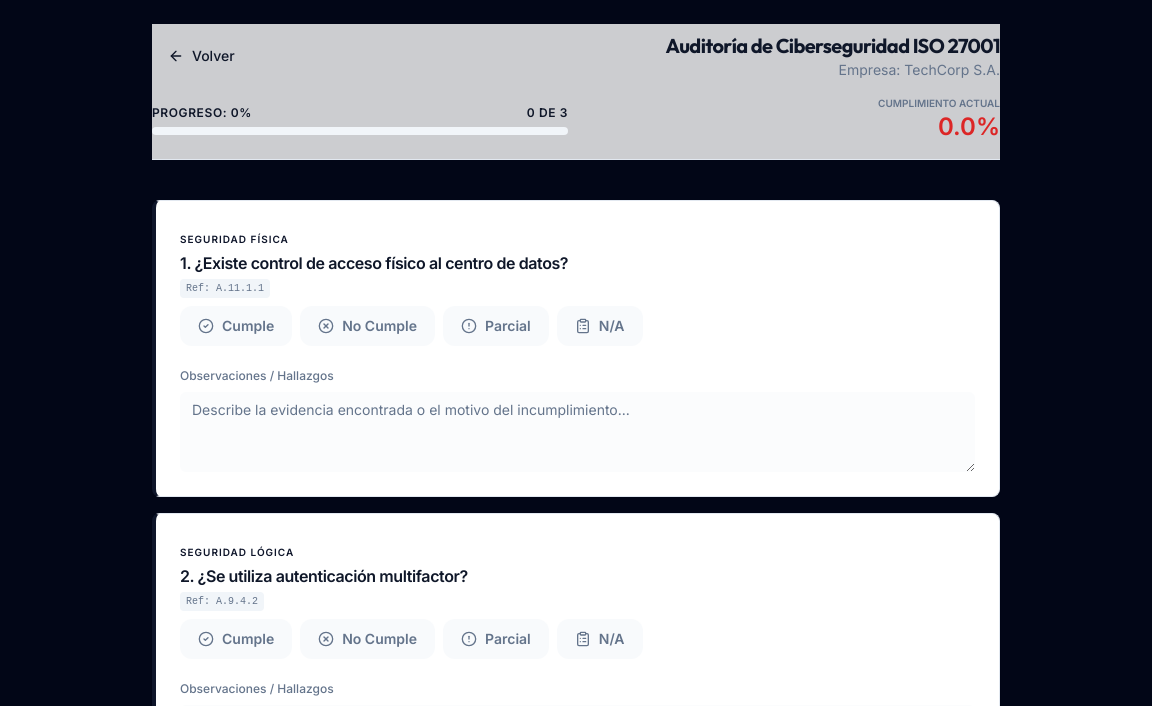
Test: AuditExecutionPage › New audit flow › should update score with partial responses on different items
What coordinates should you click on to do the following:
click the button "Cumple" below "A.11.1.1"
I would click on:
 (236, 326)
Its box is [180,306,292,346].
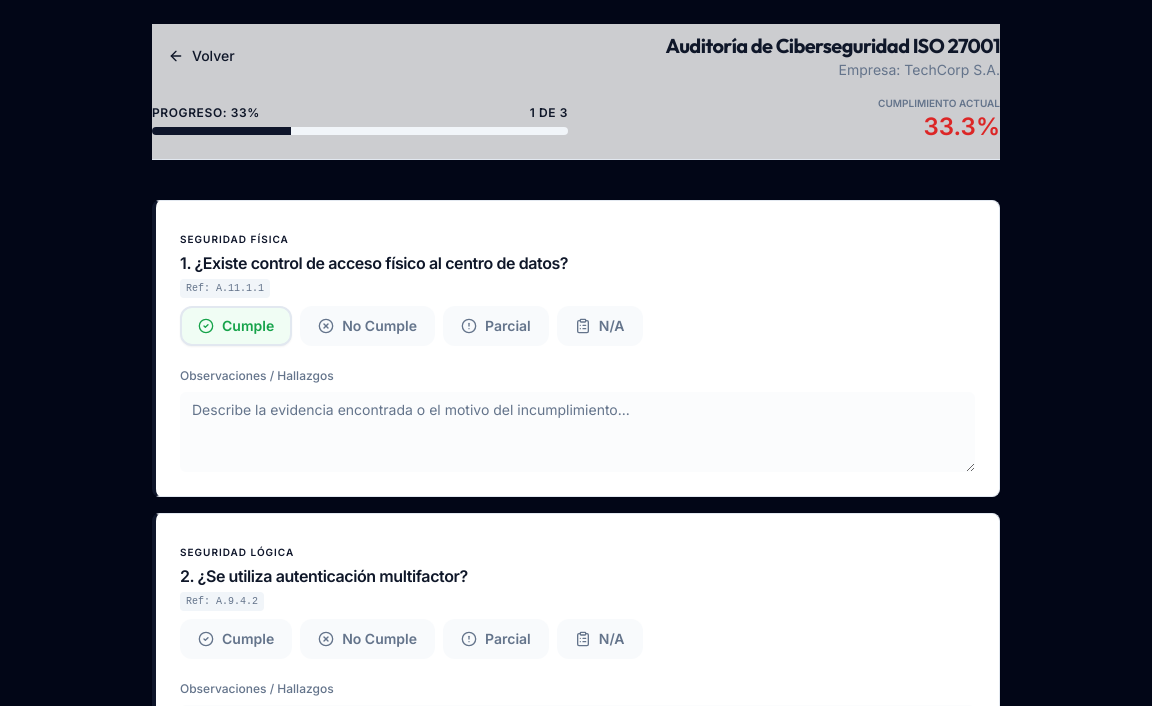
What coordinates should you click on to do the following:
click the button "Parcial" below "A.9.4.2"
I would click on:
 (496, 639)
Its box is [443,619,549,659].
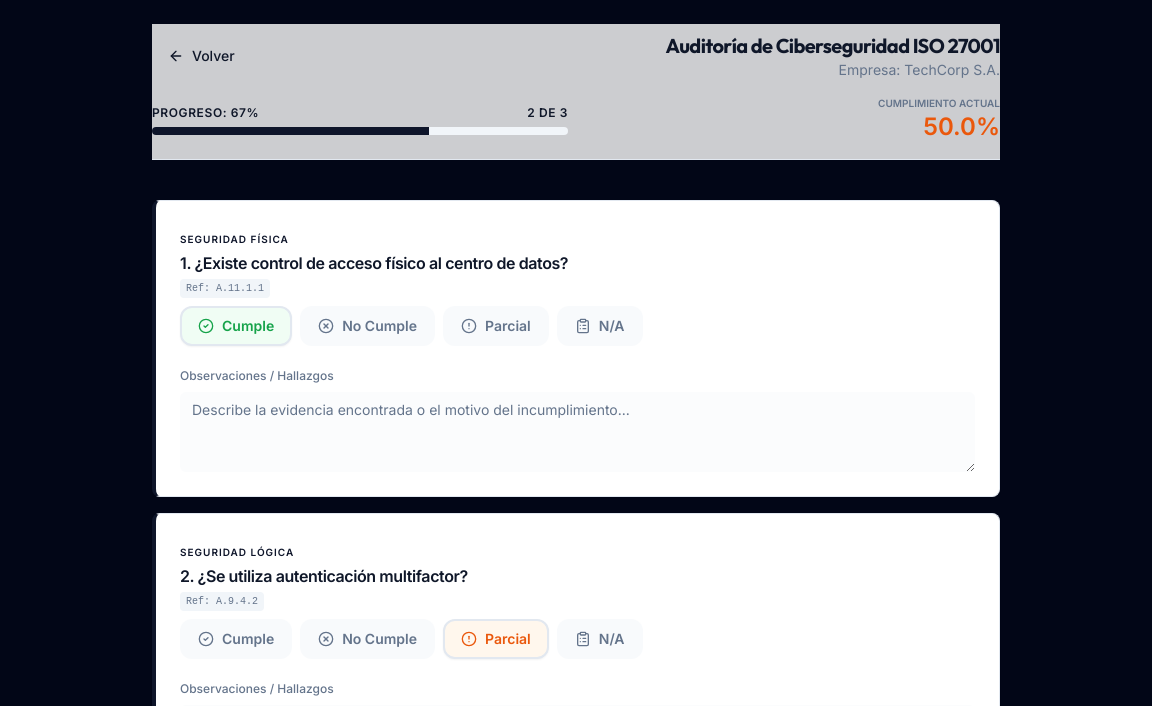
Result: the text "50.0%" is shown at [923,112,1000,141]
